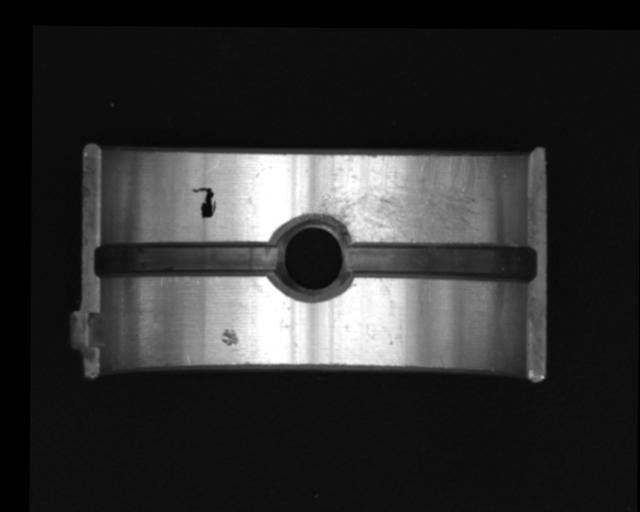blot: (190, 186, 217, 218)
bruise: (221, 328, 240, 346)
gap: (344, 240, 537, 284), (96, 240, 280, 278)
hole: (272, 214, 352, 300)
scratch: (317, 153, 505, 243)
